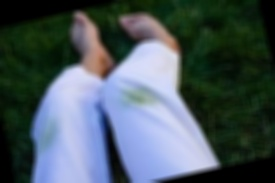earth: (124, 88, 151, 106), (38, 124, 57, 146)
